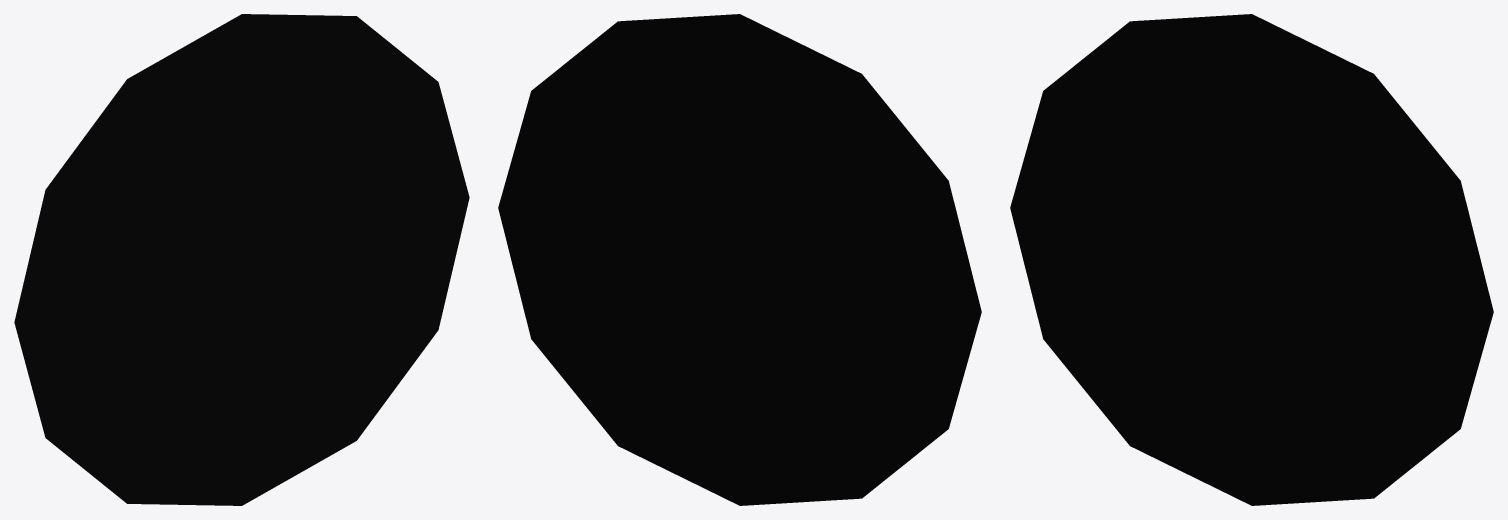
File: HTOWN01_GREENDRAGVOID.fbx
The picture shows the model from 3 angles, left to right: view 1: azimuth 30°, elevation 25°; view 2: azimuth 150°, elevation 25°; view 3: azimuth 330°, elevation 25°; orthographic projection.
Visible parts, largest first — view 1: HTOWN01_GREENDRAGVOID; view 2: HTOWN01_GREENDRAGVOID; view 3: HTOWN01_GREENDRAGVOID.
Boxes of the visible parts, bbox=[...] form: HTOWN01_GREENDRAGVOID: bbox=[14, 14, 469, 505]; HTOWN01_GREENDRAGVOID: bbox=[498, 14, 981, 505]; HTOWN01_GREENDRAGVOID: bbox=[1010, 14, 1493, 505].
Bounding box in the file's own units: 15637 × 15658 × 820.
1 material, 1 textured.
